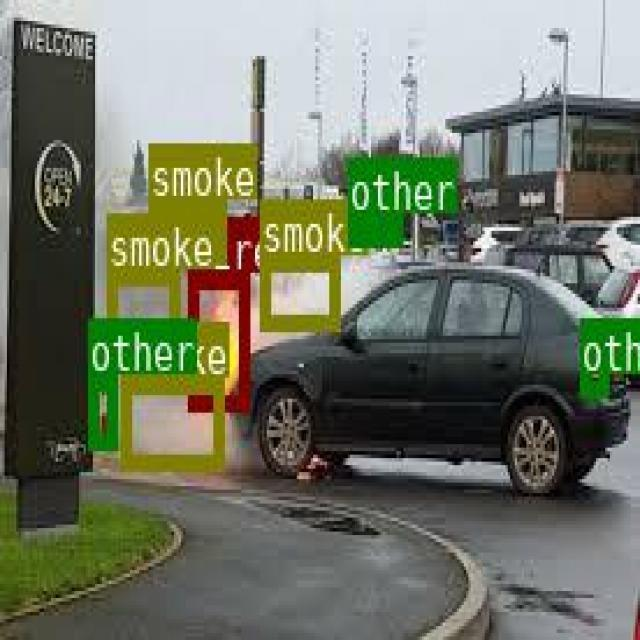fire: (187, 270, 248, 407)
smoke: (119, 376, 222, 466), (105, 269, 178, 359), (258, 252, 338, 328), (148, 199, 224, 262)
